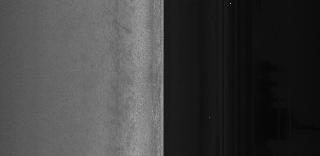silk spot: (109, 57, 133, 103)
